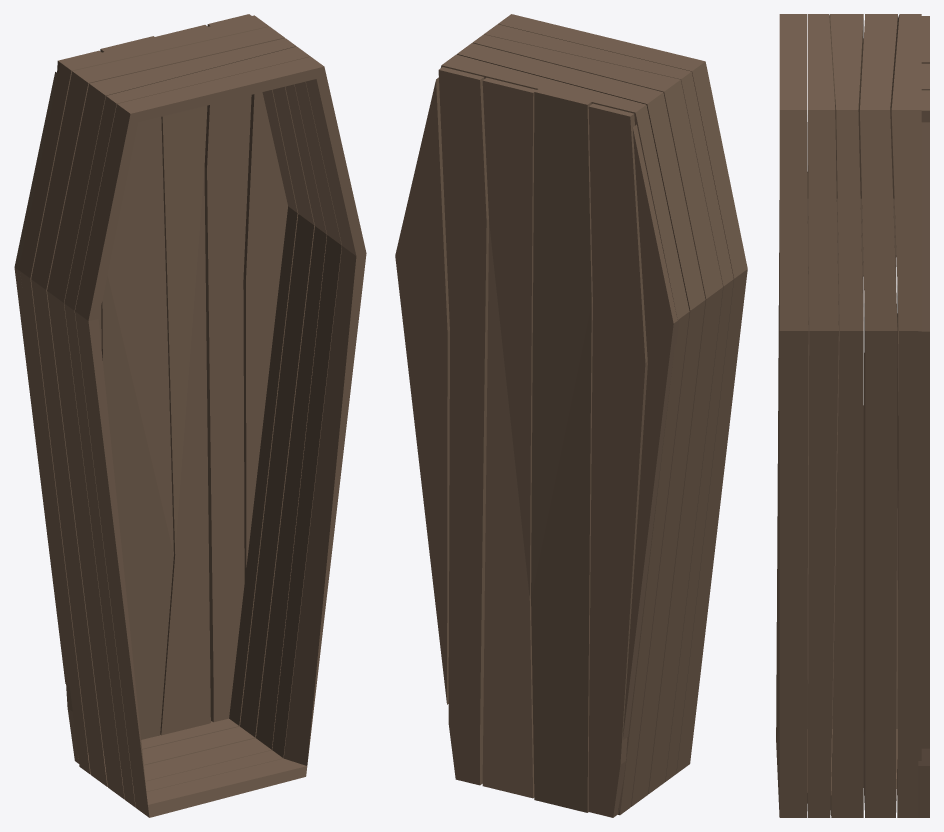
The model's file is Coffin_1.fbx.
3 renders of one model, left to right at view 1: azimuth 30°, elevation 25°; view 2: azimuth 150°, elevation 25°; view 3: azimuth 270°, elevation 25°, orthographic.
Visible parts, largest first — view 1: Coffin_1; view 2: Coffin_1; view 3: Coffin_1.
Boxes of the visible parts, bbox=[...] form: Coffin_1: bbox=[14, 14, 366, 817]; Coffin_1: bbox=[395, 14, 747, 817]; Coffin_1: bbox=[776, 14, 929, 817].
Bounding box in the file's own units: 83.93 × 39.59 × 204.
